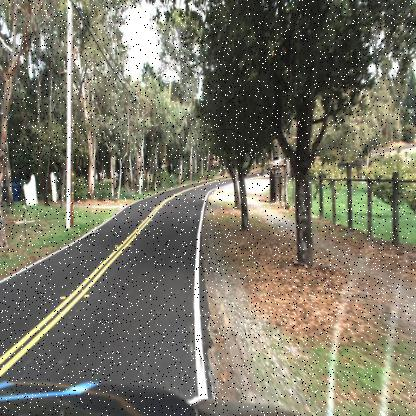car: (268, 150, 284, 170)
